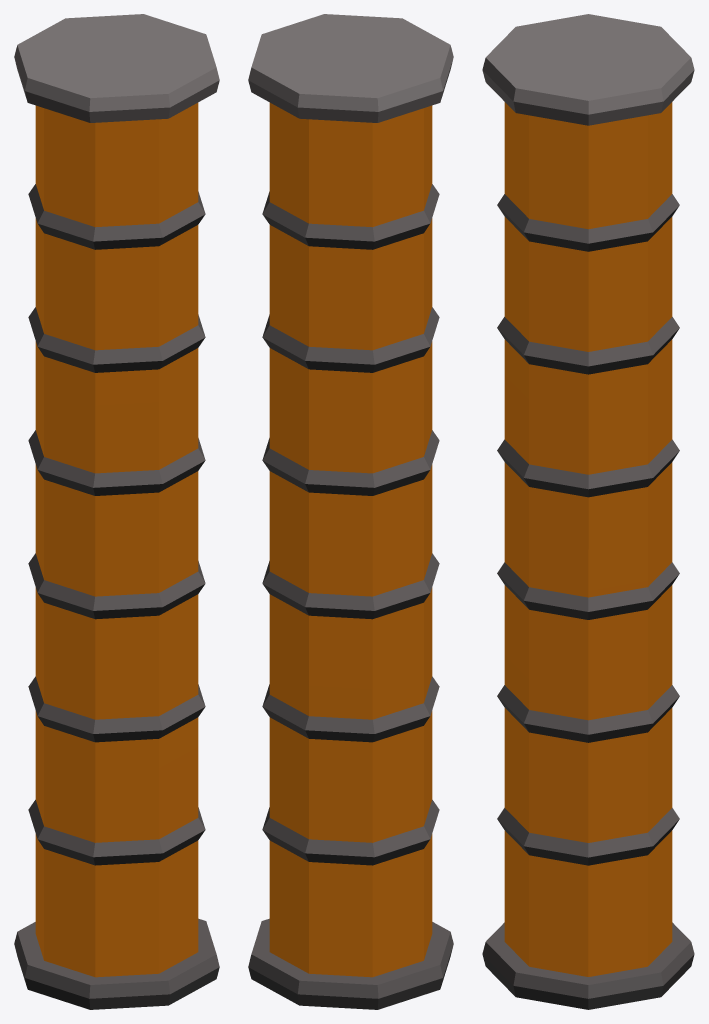
File: Light_02.glb
3 views of the same model, side by side, from view 1: azimuth 30°, elevation 25°; view 2: azimuth 150°, elevation 25°; view 3: azimuth 270°, elevation 25° (orthographic).
Visible parts, largest first — view 1: Light_02; view 2: Light_02; view 3: Light_02.
Boxes of the visible parts, x1,y1,x2,y2 form: Light_02: [14, 14, 219, 1009]; Light_02: [248, 14, 453, 1009]; Light_02: [482, 14, 694, 1009].
Size of what is drawn, in the model's own units: 0.2635 by 1.25 by 0.2635.
2 materials, 2 textured.
